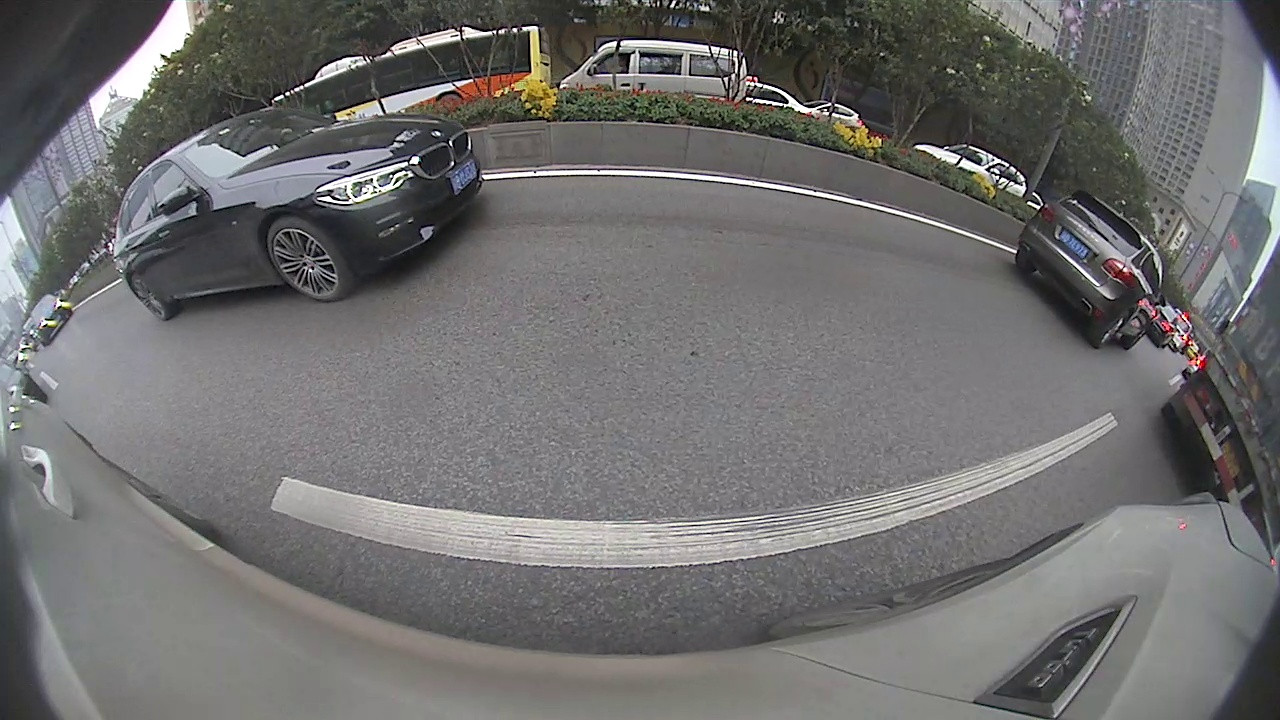car: (115, 102, 483, 321), (1014, 188, 1164, 350), (25, 292, 77, 346)
front: (265, 222, 351, 304)
rear: (128, 273, 170, 320), (1091, 309, 1132, 348)
